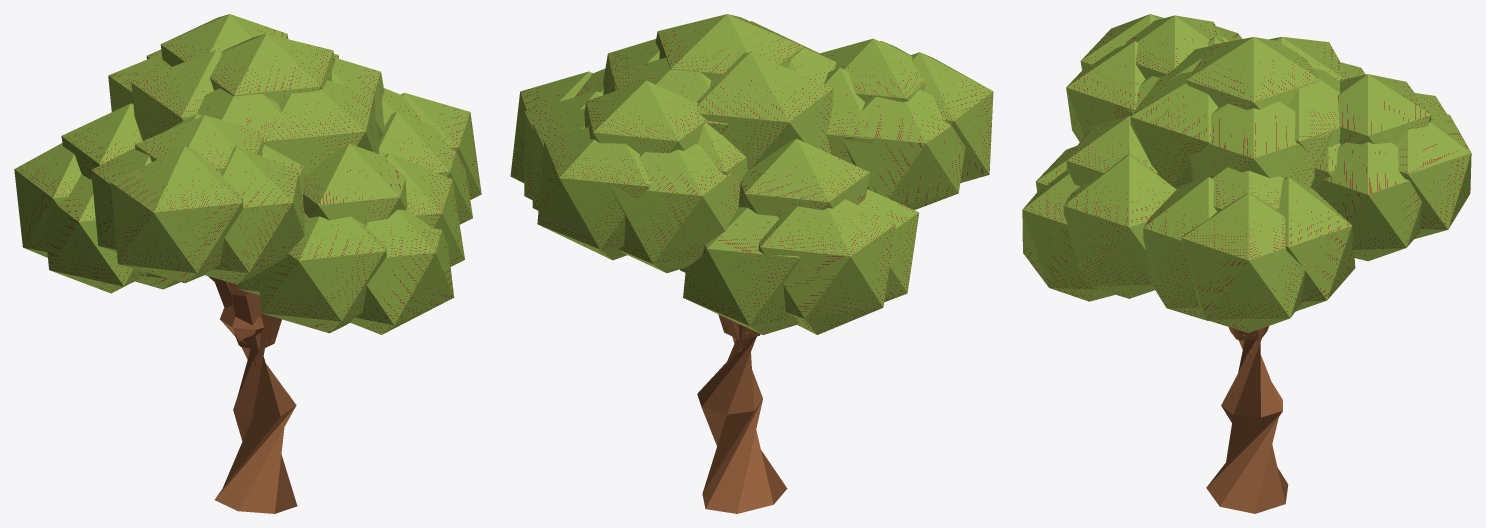
File: BroadleafTree.glb
3 views of the same model, side by side, from view 1: azimuth 30°, elevation 25°; view 2: azimuth 150°, elevation 25°; view 3: azimuth 270°, elevation 25° (orthographic). The views are drawn at different scales.
Visible parts, largest first — view 1: BroadleafTree; view 2: BroadleafTree; view 3: BroadleafTree.
Boxes of the visible parts, x1,y1,x2,y2 form: BroadleafTree: (14, 14, 481, 513); BroadleafTree: (510, 14, 993, 513); BroadleafTree: (1022, 14, 1471, 513).
Bounding box in the file's own units: 9.23 × 10.23 × 8.95.
Materials: 1 (1 with a texture image).
